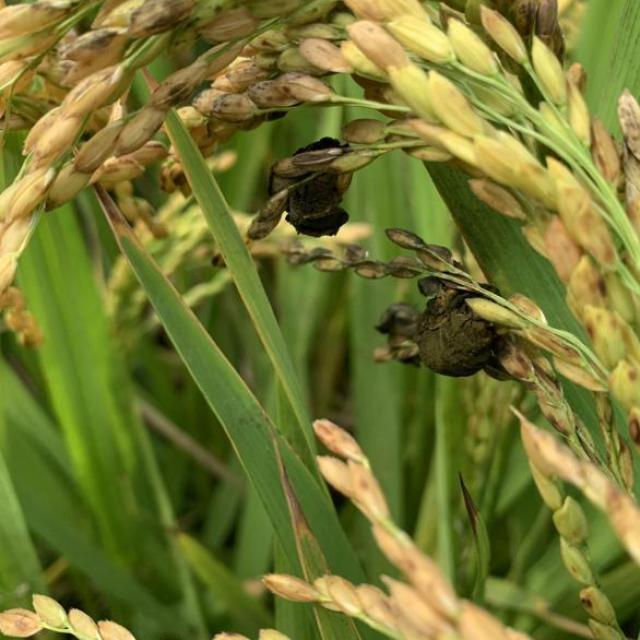Leaf_Scald: (386, 266, 510, 386), (270, 137, 362, 239)
